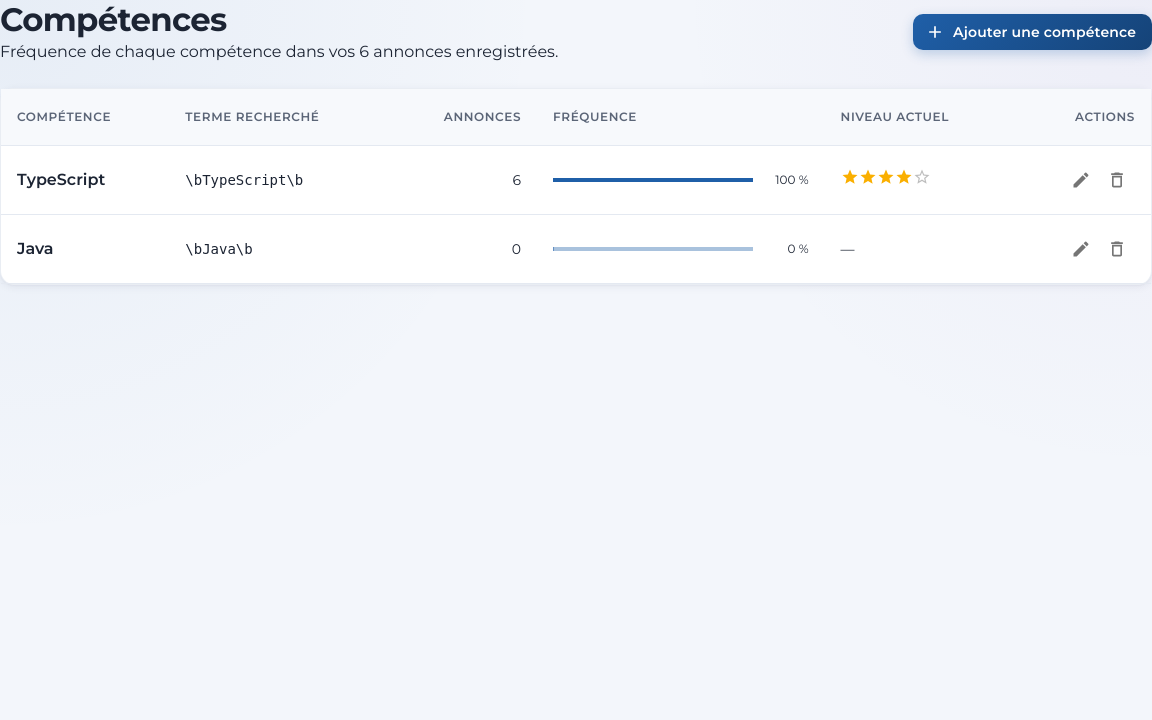
Test: SkillsPage › shows the API error on a pattern valid in JavaScript but not in RE2
Click the button "Ajouter une compétence". click: (1033, 32)
box: [913,14,1151,50]
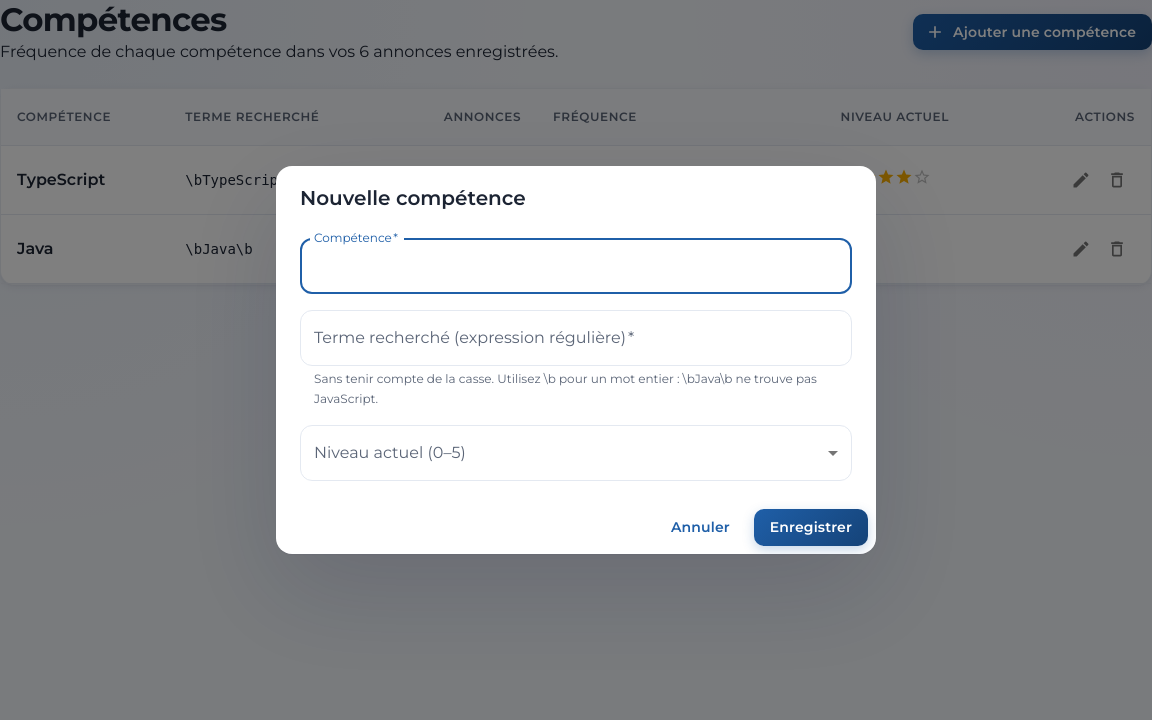
Type "Lent" into the field labelled "Compétence *". click: (576, 266)
box: [300,238,852,294]
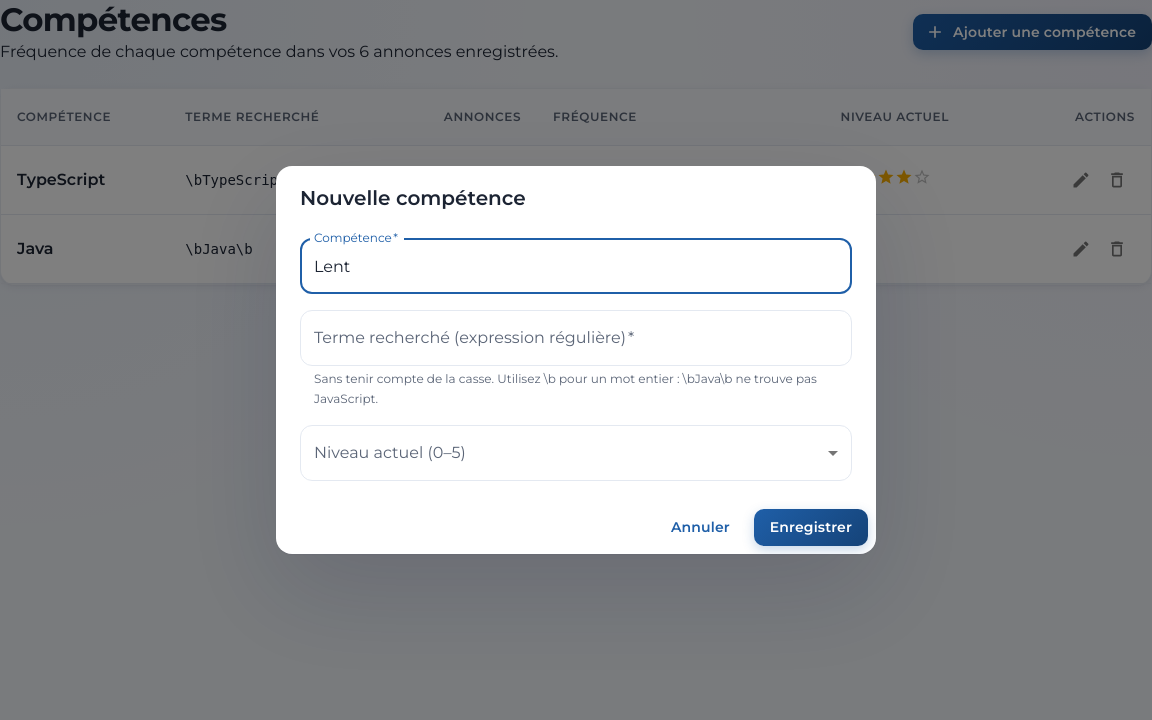
Type "a(?=b)" into the field labelled "Terme recherché (expression régulière) *". click: (576, 338)
box: [300,310,852,366]
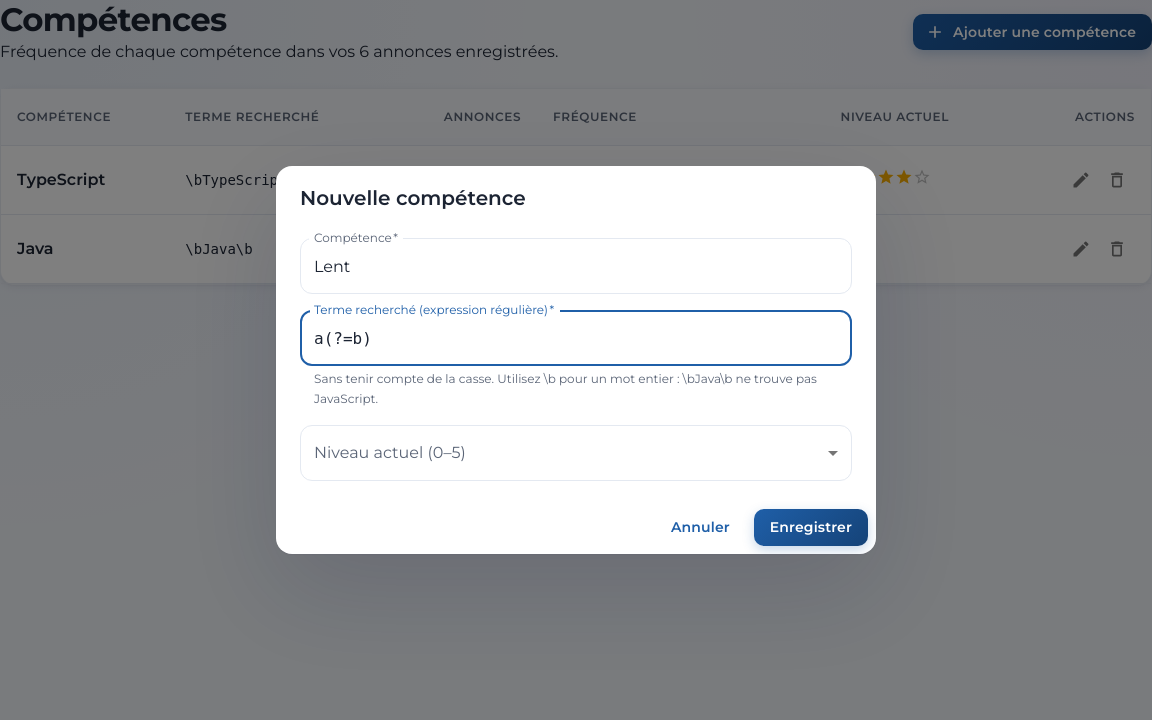
Click the button "Enregistrer". click: (811, 527)
box: [754,509,868,546]
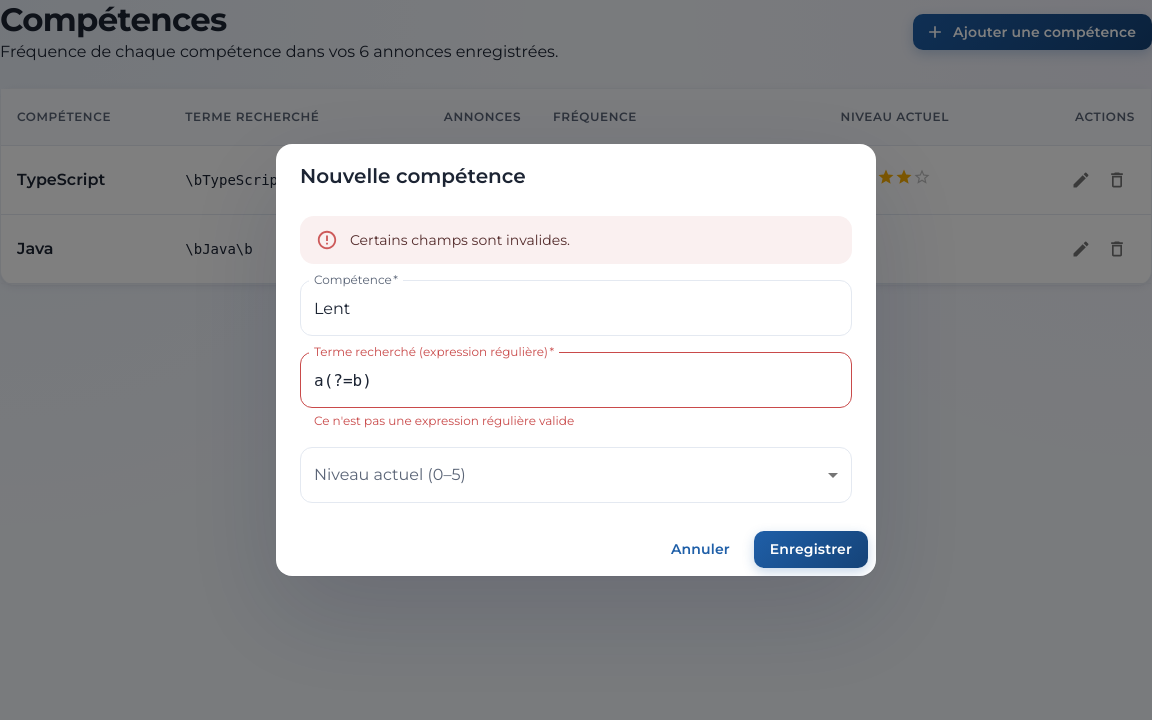
Expected: the text "Ce n'est pas une expression régulière valide" is shown, [314,413,574,428]
